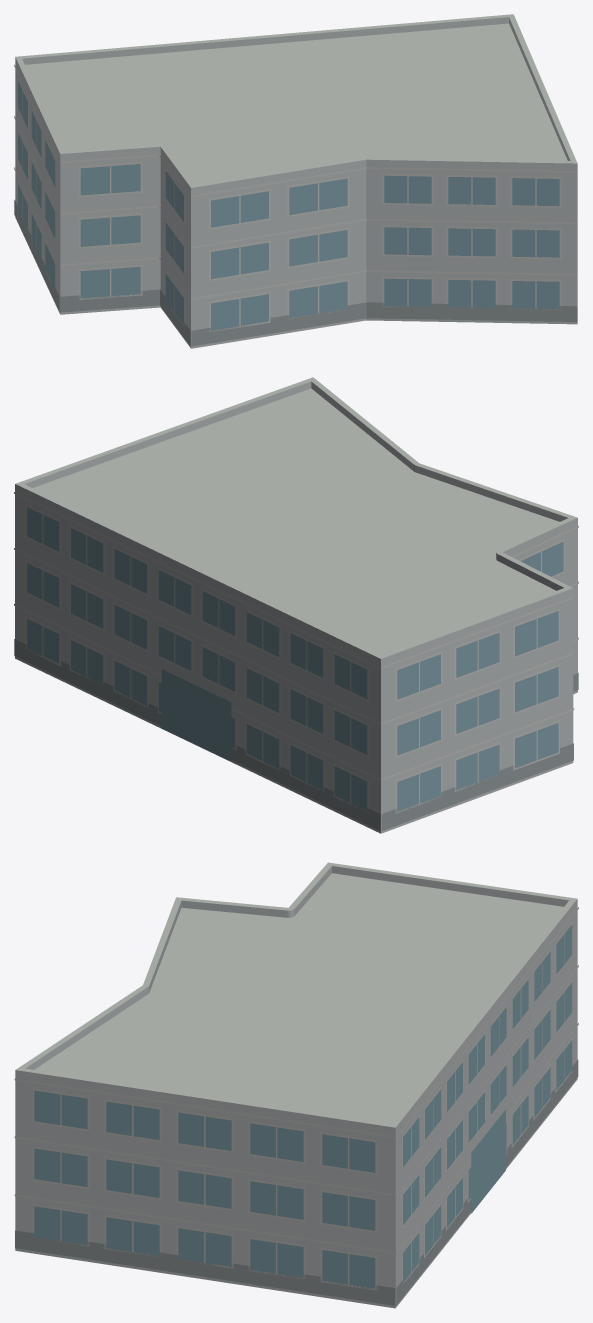
Rendered from public-3527e5de-ee6a-4ae4-abda-b1bf24d504a7.glb.
The picture shows the model from 3 angles, top to bottom: view 1: azimuth 30°, elevation 25°; view 2: azimuth 150°, elevation 25°; view 3: azimuth 270°, elevation 25°; orthographic projection. The views are drawn at different scales.
Visible parts, largest first — view 1: public-3527e5de-ee6a-4ae4-abda-b1bf24d504a7; view 2: public-3527e5de-ee6a-4ae4-abda-b1bf24d504a7; view 3: public-3527e5de-ee6a-4ae4-abda-b1bf24d504a7.
Boxes of the visible parts, x1,y1,x2,y2 form: public-3527e5de-ee6a-4ae4-abda-b1bf24d504a7: (14, 14, 577, 348); public-3527e5de-ee6a-4ae4-abda-b1bf24d504a7: (14, 377, 578, 833); public-3527e5de-ee6a-4ae4-abda-b1bf24d504a7: (14, 862, 578, 1308).
Bounding box in the file's own units: 28.92 × 9.15 × 25.92.
